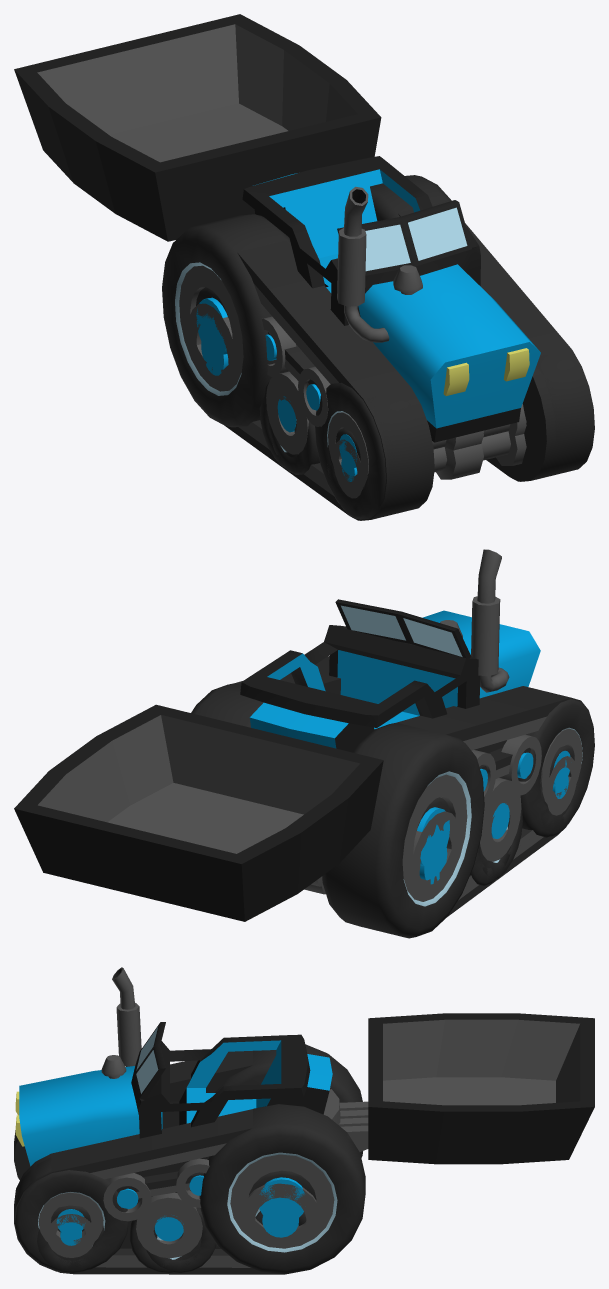
Rendered from tractor_update.fbx.
The picture shows the model from 3 angles, top to bottom: view 1: azimuth 30°, elevation 25°; view 2: azimuth 150°, elevation 25°; view 3: azimuth 270°, elevation 25°; orthographic projection. The views are drawn at different scales.
Parts seen in each view (by area): view 1: trunk, body, wheels_8, wheels_4, wheels_6, wheels_0, wheels_7, wheels_5, wheels_2; view 2: trunk, body, wheels_4, wheels_8, wheels_6, wheels_7, wheels_0, wheels_5, wheels_1; view 3: trunk, body, wheels_4, wheels_8, wheels_6, wheels_7, wheels_0, wheels_1, wheels_5, wheels_2.
Part boxes in pixels (bbox=[...]): trunk: bbox=[14, 14, 381, 241]; body: bbox=[242, 156, 540, 442]; wheels_8: bbox=[179, 201, 594, 520]; wheels_4: bbox=[162, 175, 594, 519]; wheels_6: bbox=[187, 303, 524, 520]; wheels_0: bbox=[327, 428, 526, 518]; wheels_7: bbox=[266, 371, 308, 454]; wheels_5: bbox=[267, 413, 319, 474]; wheels_2: bbox=[196, 287, 526, 450]; trunk: bbox=[14, 704, 383, 921]; body: bbox=[240, 549, 540, 752]; wheels_4: bbox=[191, 683, 594, 938]; wheels_8: bbox=[235, 656, 593, 901]; wheels_6: bbox=[410, 743, 577, 916]; wheels_7: bbox=[480, 778, 521, 861]; wheels_0: bbox=[304, 745, 581, 894]; wheels_5: bbox=[480, 806, 522, 878]; wheels_1: bbox=[470, 813, 511, 885]; trunk: bbox=[368, 1013, 594, 1164]; body: bbox=[15, 967, 368, 1166]; wheels_4: bbox=[14, 1044, 365, 1274]; wheels_8: bbox=[14, 1051, 352, 1271]; wheels_6: bbox=[47, 1170, 321, 1274]; wheels_7: bbox=[136, 1192, 202, 1258]; wheels_0: bbox=[37, 1205, 306, 1273]; wheels_1: bbox=[146, 1207, 216, 1273]; wheels_5: bbox=[129, 1219, 201, 1273]; wheels_2: bbox=[249, 1170, 316, 1216].
Size of the model in its own units: 2.61 by 2.96 by 6.51.
